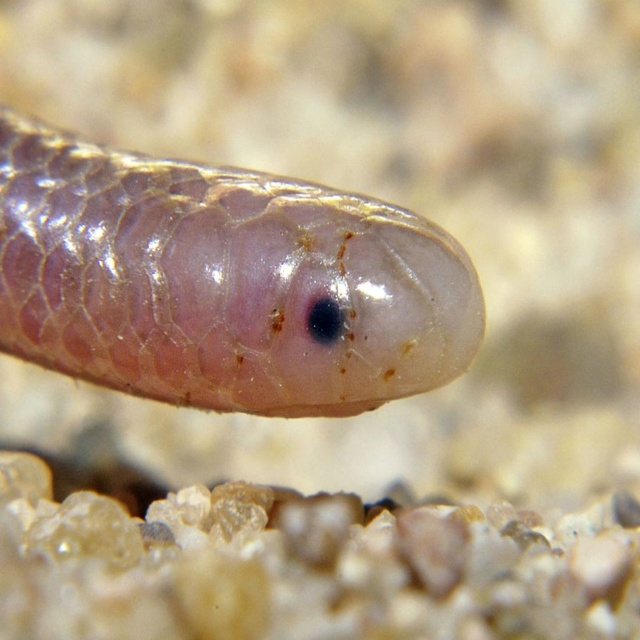Snake: (0, 93, 487, 419)
